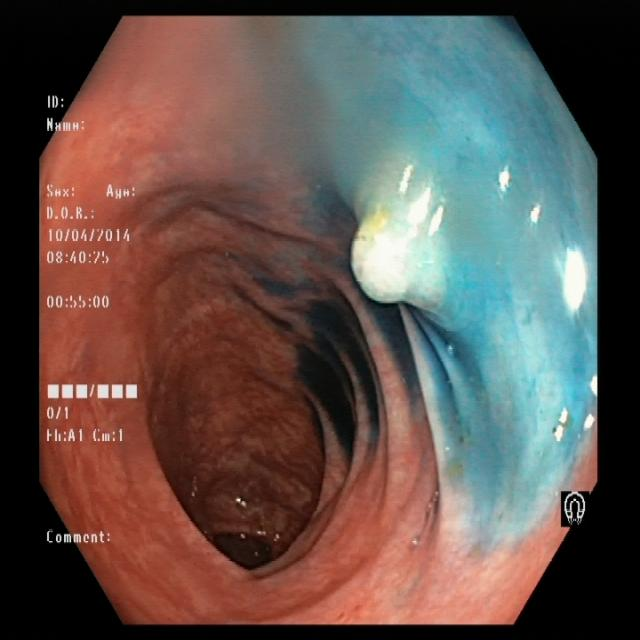diedpolyp: (312, 16, 596, 497)
